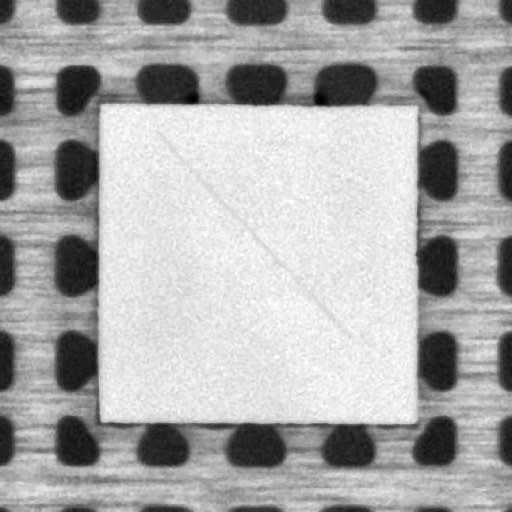DIE_CRACK: (156, 131, 348, 336)
